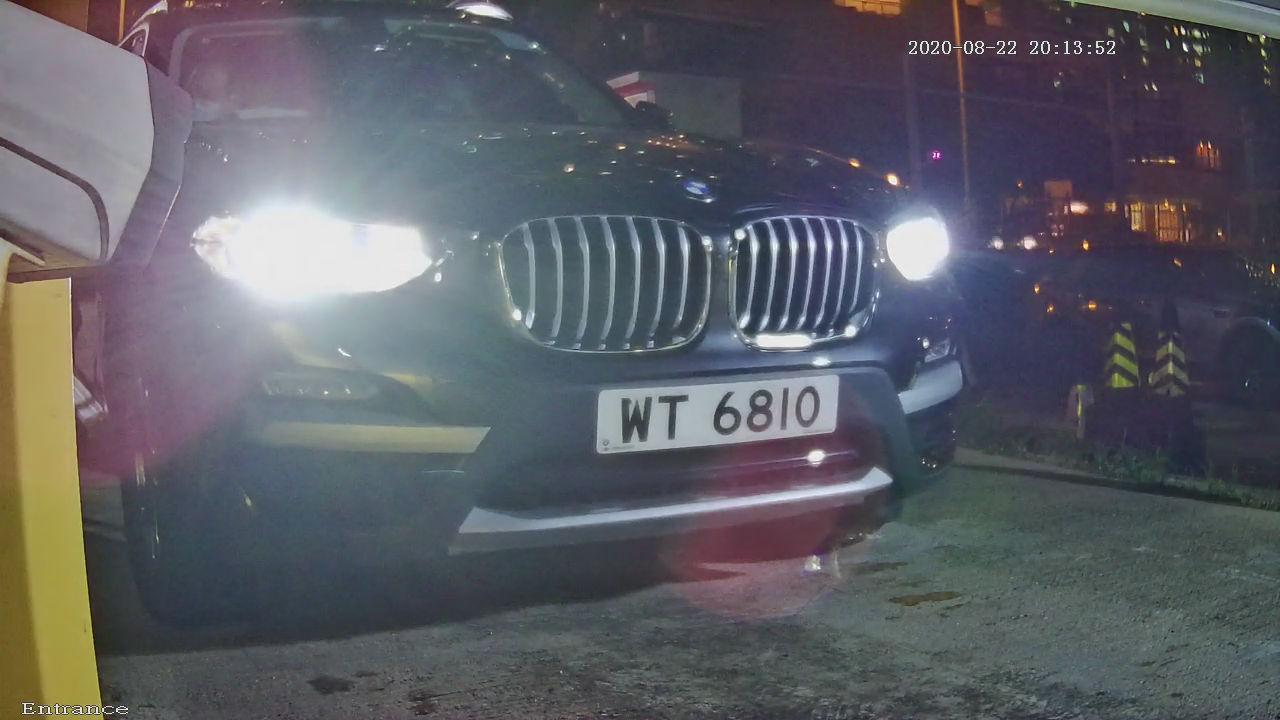License Plate: (572, 361, 852, 467)
